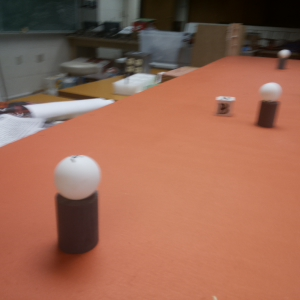blockB: (215, 95, 235, 116)
corner: (225, 23, 243, 56)
obstacle: (53, 153, 102, 255), (258, 81, 280, 129), (276, 50, 291, 70)
